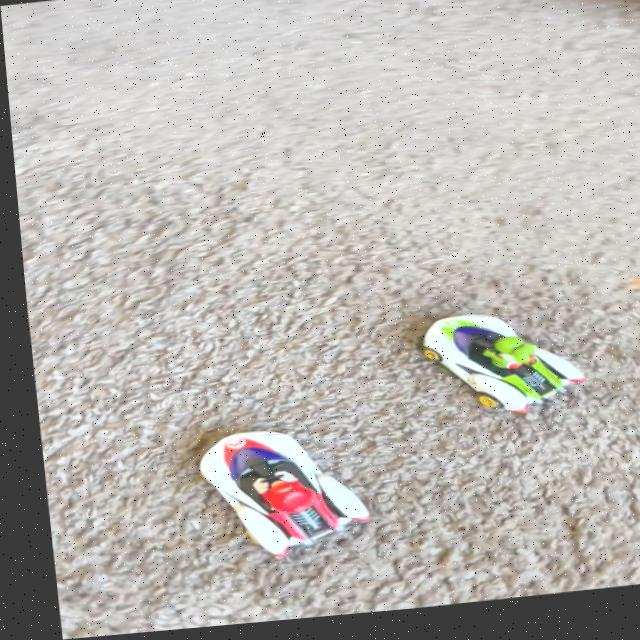mario: (169, 414, 375, 581)
yoshi: (400, 299, 597, 447)
